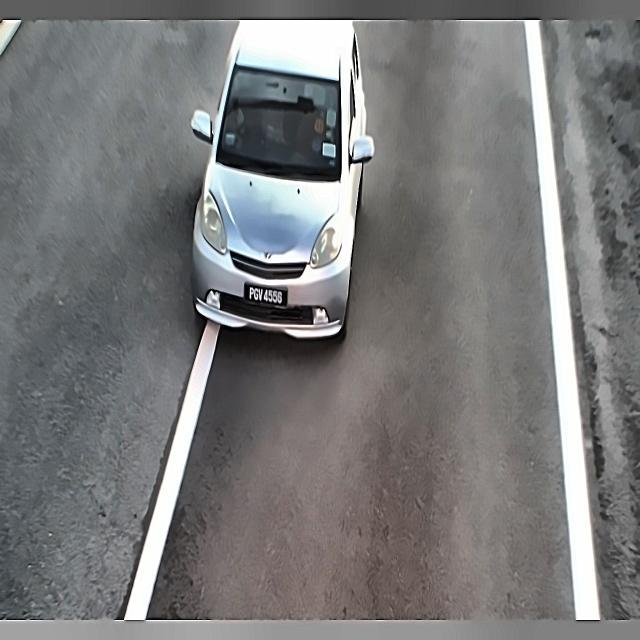car: (236, 272, 296, 317)
